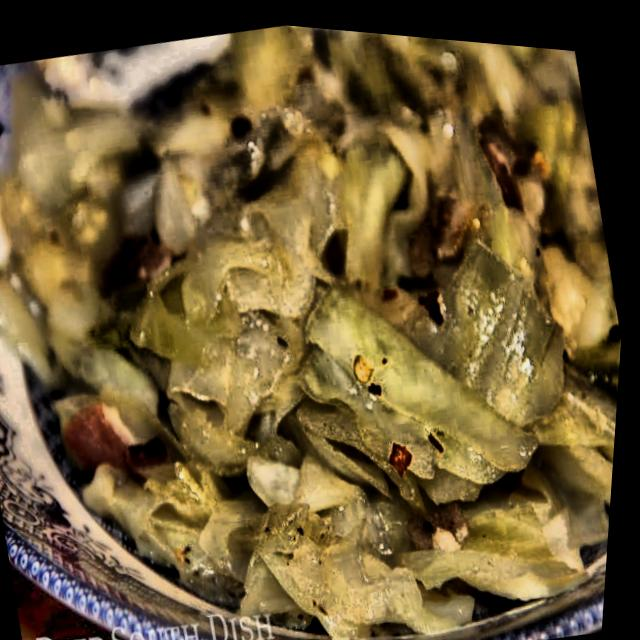Food: (0, 2, 640, 636)
